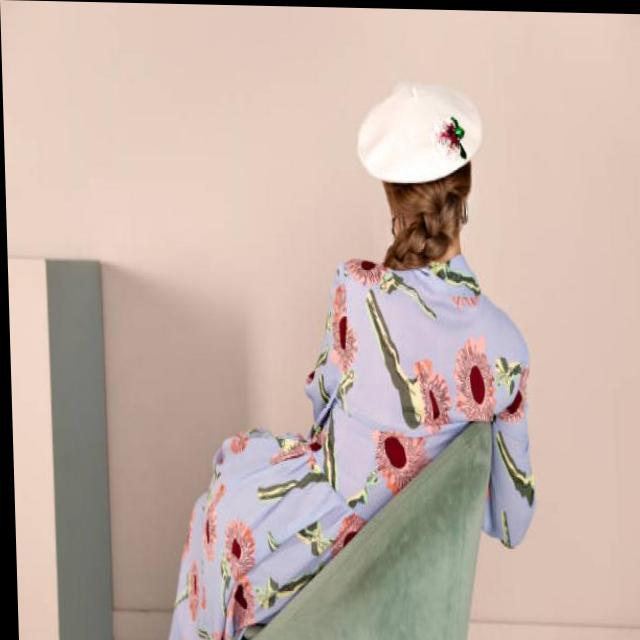no helmet: (352, 72, 488, 289)
